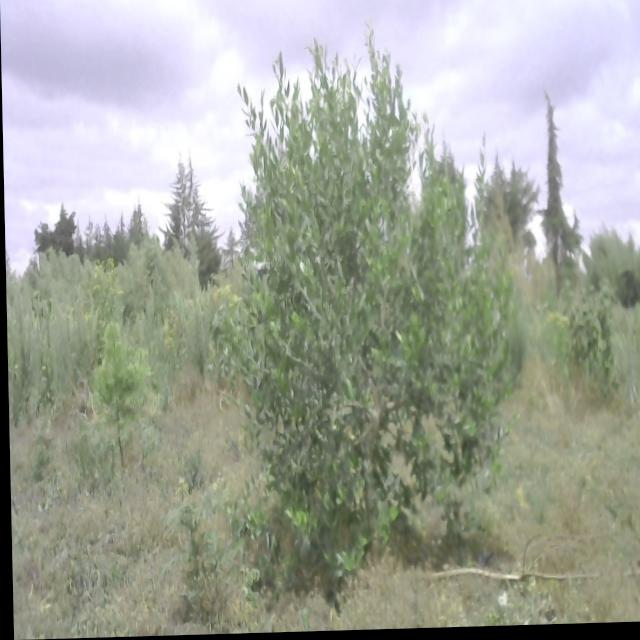Podocarpus falcatus: (87, 309, 150, 471)
Salix alba: (211, 38, 518, 619)
cedrus: (529, 84, 587, 292), (162, 145, 220, 289), (488, 143, 532, 241), (31, 191, 78, 264), (128, 188, 144, 257)
